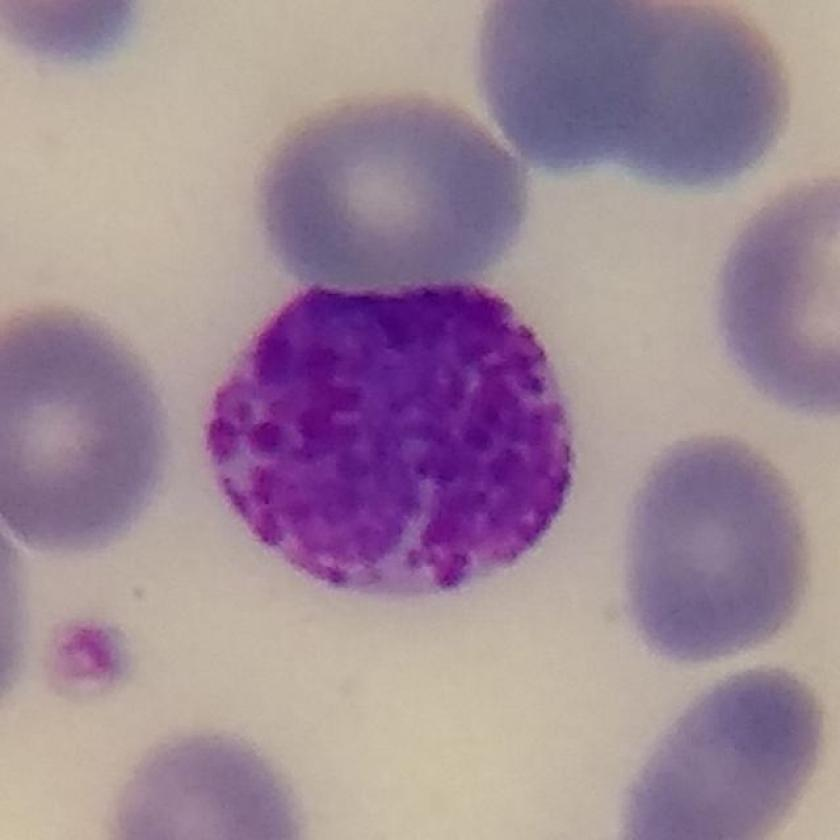basophil: (188, 268, 595, 612)
